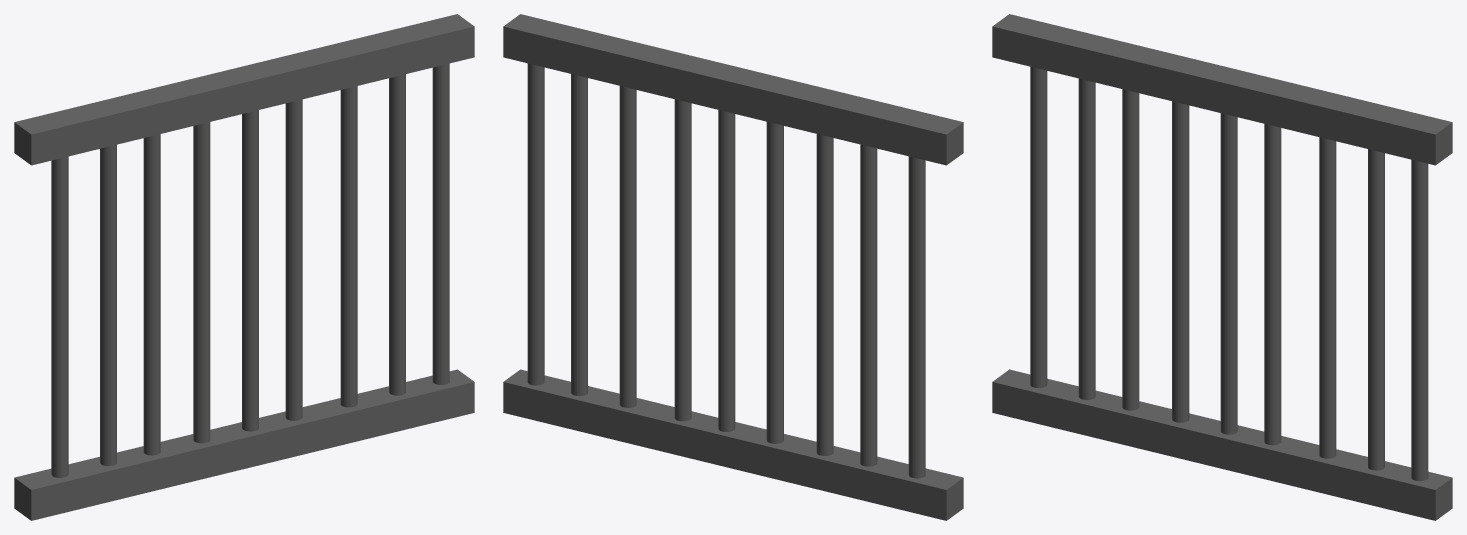
The model's file is JailDoor.fbx.
The picture shows the model from 3 angles, left to right: view 1: azimuth 30°, elevation 25°; view 2: azimuth 150°, elevation 25°; view 3: azimuth 330°, elevation 25°; orthographic projection.
Visible parts, largest first — view 1: Cube.001; view 2: Cube.001; view 3: Cube.001.
Boxes of the visible parts, bbox=[...] form: Cube.001: bbox=[14, 14, 474, 520]; Cube.001: bbox=[503, 14, 963, 520]; Cube.001: bbox=[992, 14, 1452, 520].
Bounding box in the file's own units: 300 × 20 × 250.
